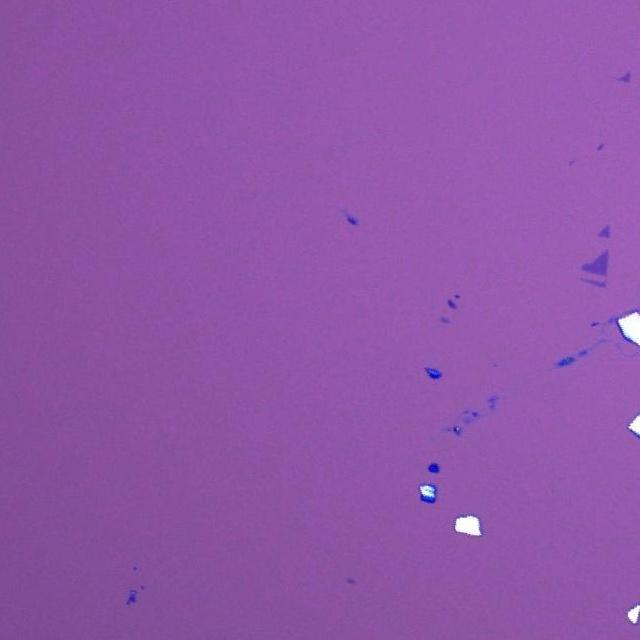monolayer-eWW4: (578, 248, 608, 276), (579, 278, 606, 290), (596, 226, 611, 238)
